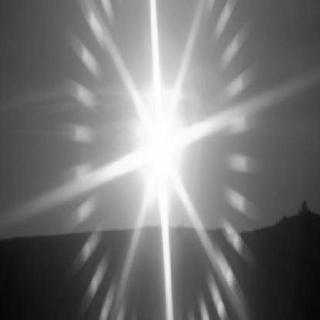other: (62, 1, 266, 318)
